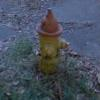Hydrant: (28, 4, 71, 88)
